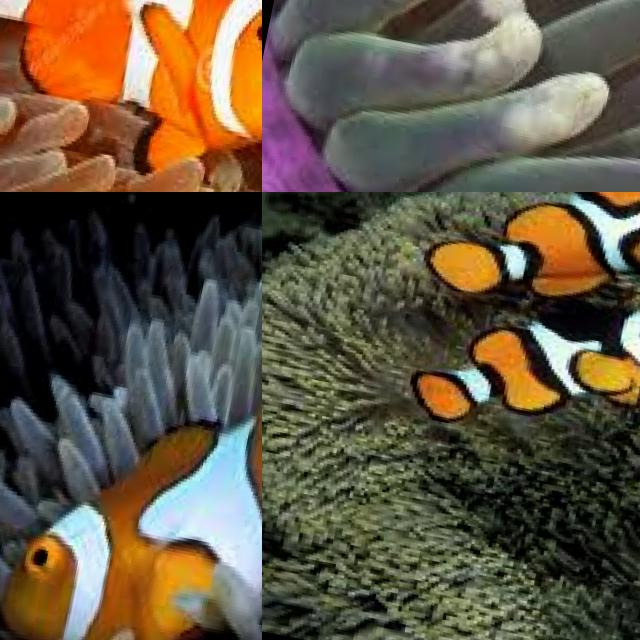Amphiprion-percula: (0, 192, 262, 640), (375, 261, 640, 554), (0, 0, 262, 192), (413, 192, 640, 356), (262, 115, 640, 192)
